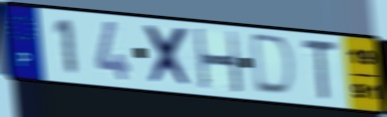1: (52, 18, 80, 76)
4: (94, 18, 132, 85)
D: (251, 31, 298, 100)
H: (192, 26, 246, 96)
T: (300, 36, 340, 102)
X: (142, 22, 195, 90)
